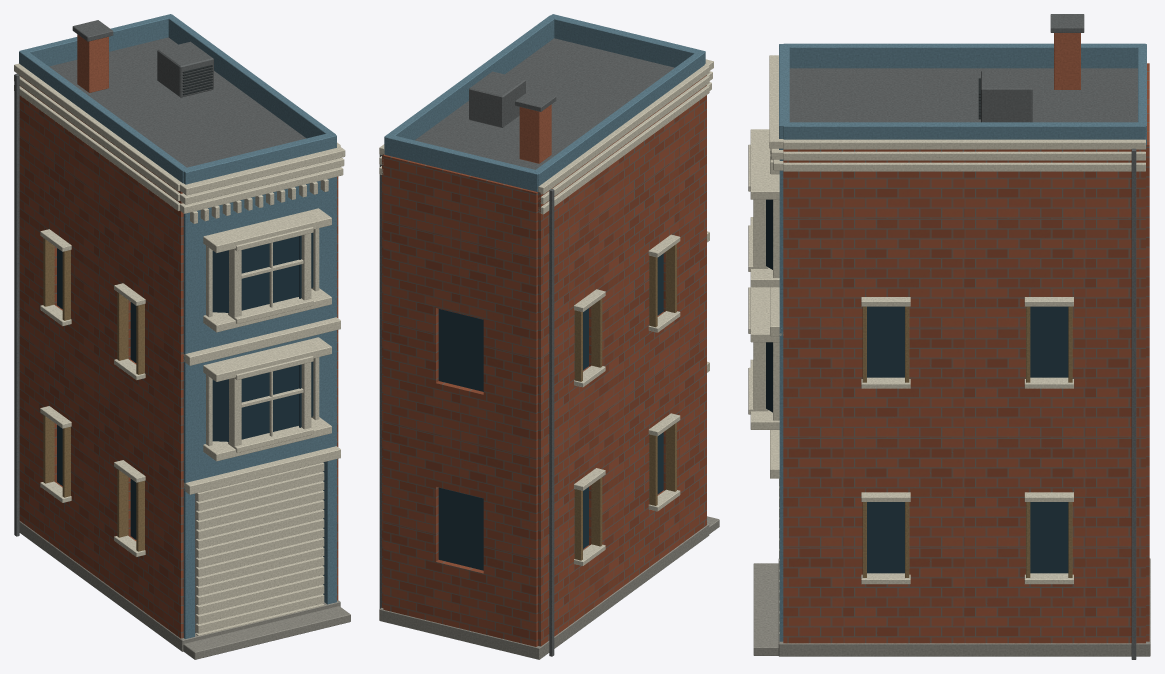
The model's file is VICT28_lod1.glb.
3 views of the same model, side by side, from view 1: azimuth 30°, elevation 25°; view 2: azimuth 150°, elevation 25°; view 3: azimuth 270°, elevation 25° (orthographic). The views are drawn at different scales.
Visible parts, largest first — view 1: VICT28_LOD1; view 2: VICT28_LOD1; view 3: VICT28_LOD1.
Part boxes in pixels (x1,y1,x2,y2): VICT28_LOD1: (14,14,350,659); VICT28_LOD1: (379,14,719,659); VICT28_LOD1: (748,14,1150,659).
Size of the model in its own units: 3.71 by 10.45 by 6.65.
10 materials, 8 textured.
